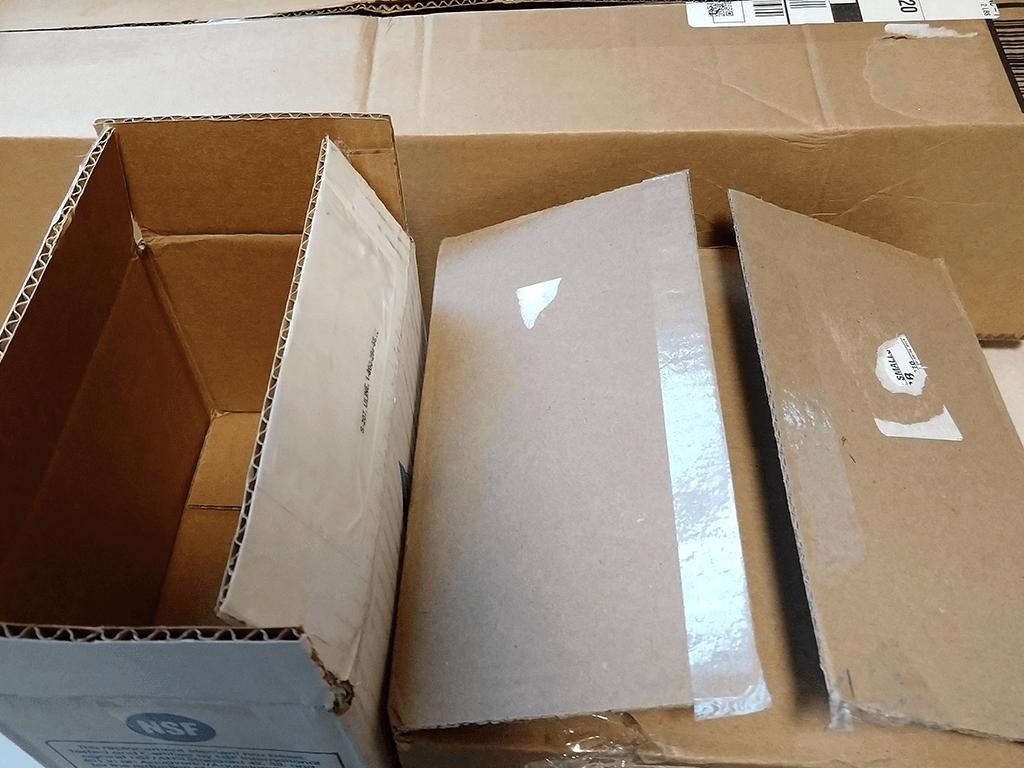cardboard: (390, 173, 769, 736), (0, 117, 406, 624), (730, 193, 1023, 741), (0, 626, 364, 767)
